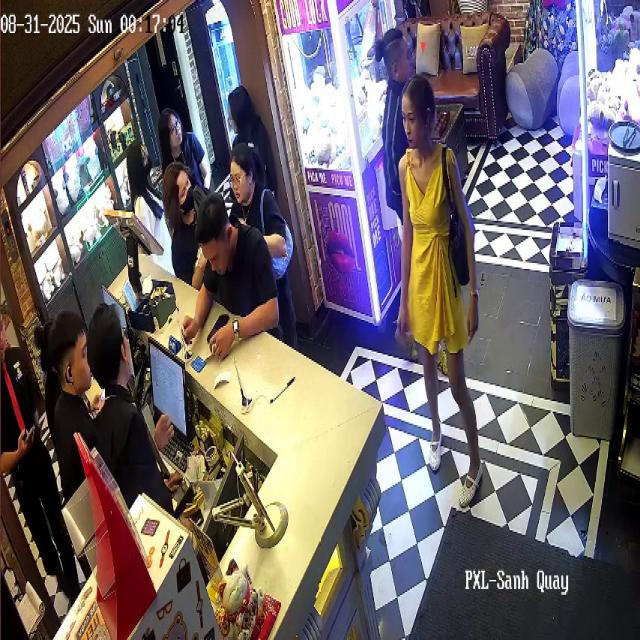khach: (398, 69, 488, 511), (190, 204, 276, 381), (222, 145, 300, 301), (155, 155, 213, 279), (228, 82, 274, 188), (159, 94, 206, 190)
nhan vien: (0, 309, 64, 604), (92, 302, 161, 498), (45, 302, 101, 475)
